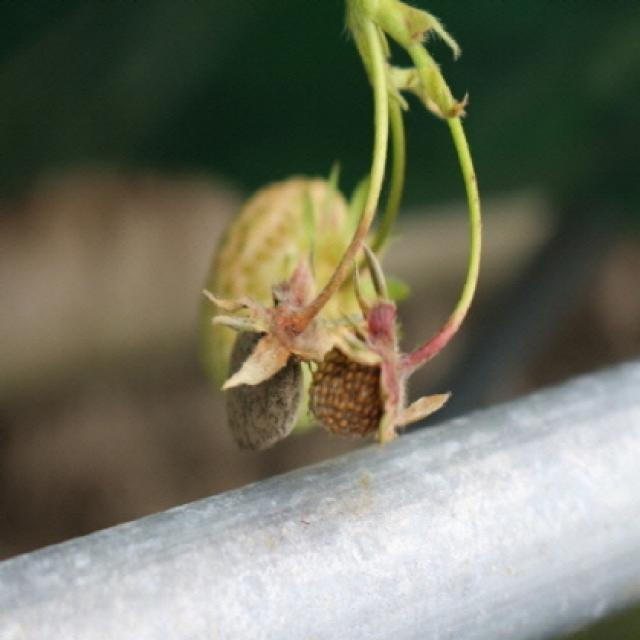Gray Mold: (199, 261, 332, 456)
